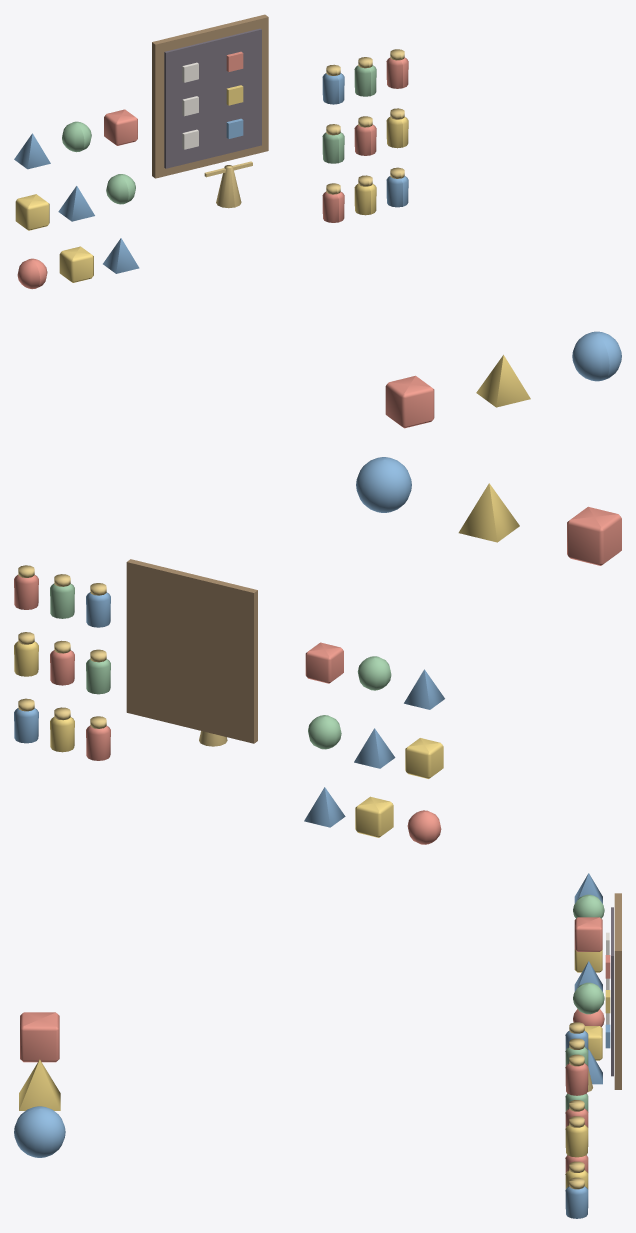
Rendered from switch_props.glb.
3 renders of one model, top to bottom at view 1: azimuth 30°, elevation 25°; view 2: azimuth 150°, elevation 25°; view 3: azimuth 270°, elevation 25°, orthographic. The views are drawn at different scales.
Visible parts, largest first — view 1: Switch_Props_Set, Sorting_Red_Cube; view 2: Switch_Props_Set, Sorting_Red_Cube; view 3: Switch_Props_Set, Sorting_Red_Cube.
Boxes of the visible parts, x1,y1,x2,y2 form: Switch_Props_Set: (14,14,621,407); Sorting_Red_Cube: (385,375,434,428); Switch_Props_Set: (14,457,519,844); Sorting_Red_Cube: (567,506,621,565); Switch_Props_Set: (14,873,621,1218); Sorting_Red_Cube: (20,1012,59,1062).
Size of the model in its own units: 3.1 by 1.56 by 4.12.
